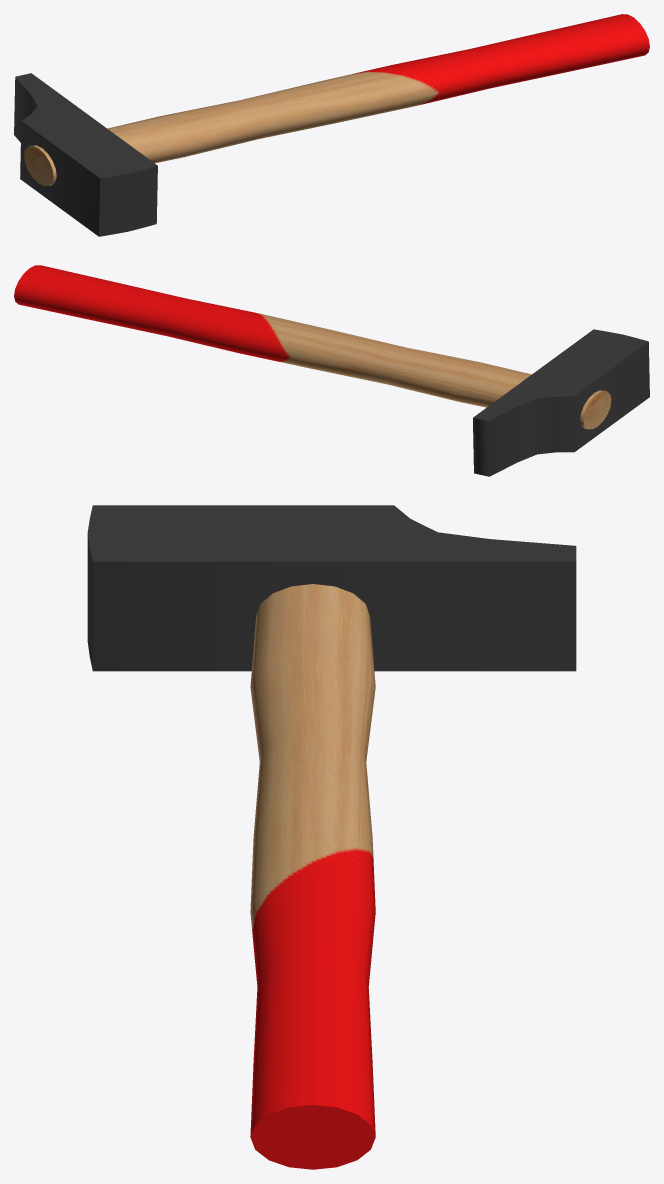
Rendered from marteau.glb.
The picture shows the model from 3 angles, top to bottom: view 1: azimuth 30°, elevation 25°; view 2: azimuth 150°, elevation 25°; view 3: azimuth 270°, elevation 25°; orthographic projection. The views are drawn at different scales.
Bounding box in the file's own units: 34.56 × 3.32 × 12.86.
Materials: 2 (1 with a texture image).
